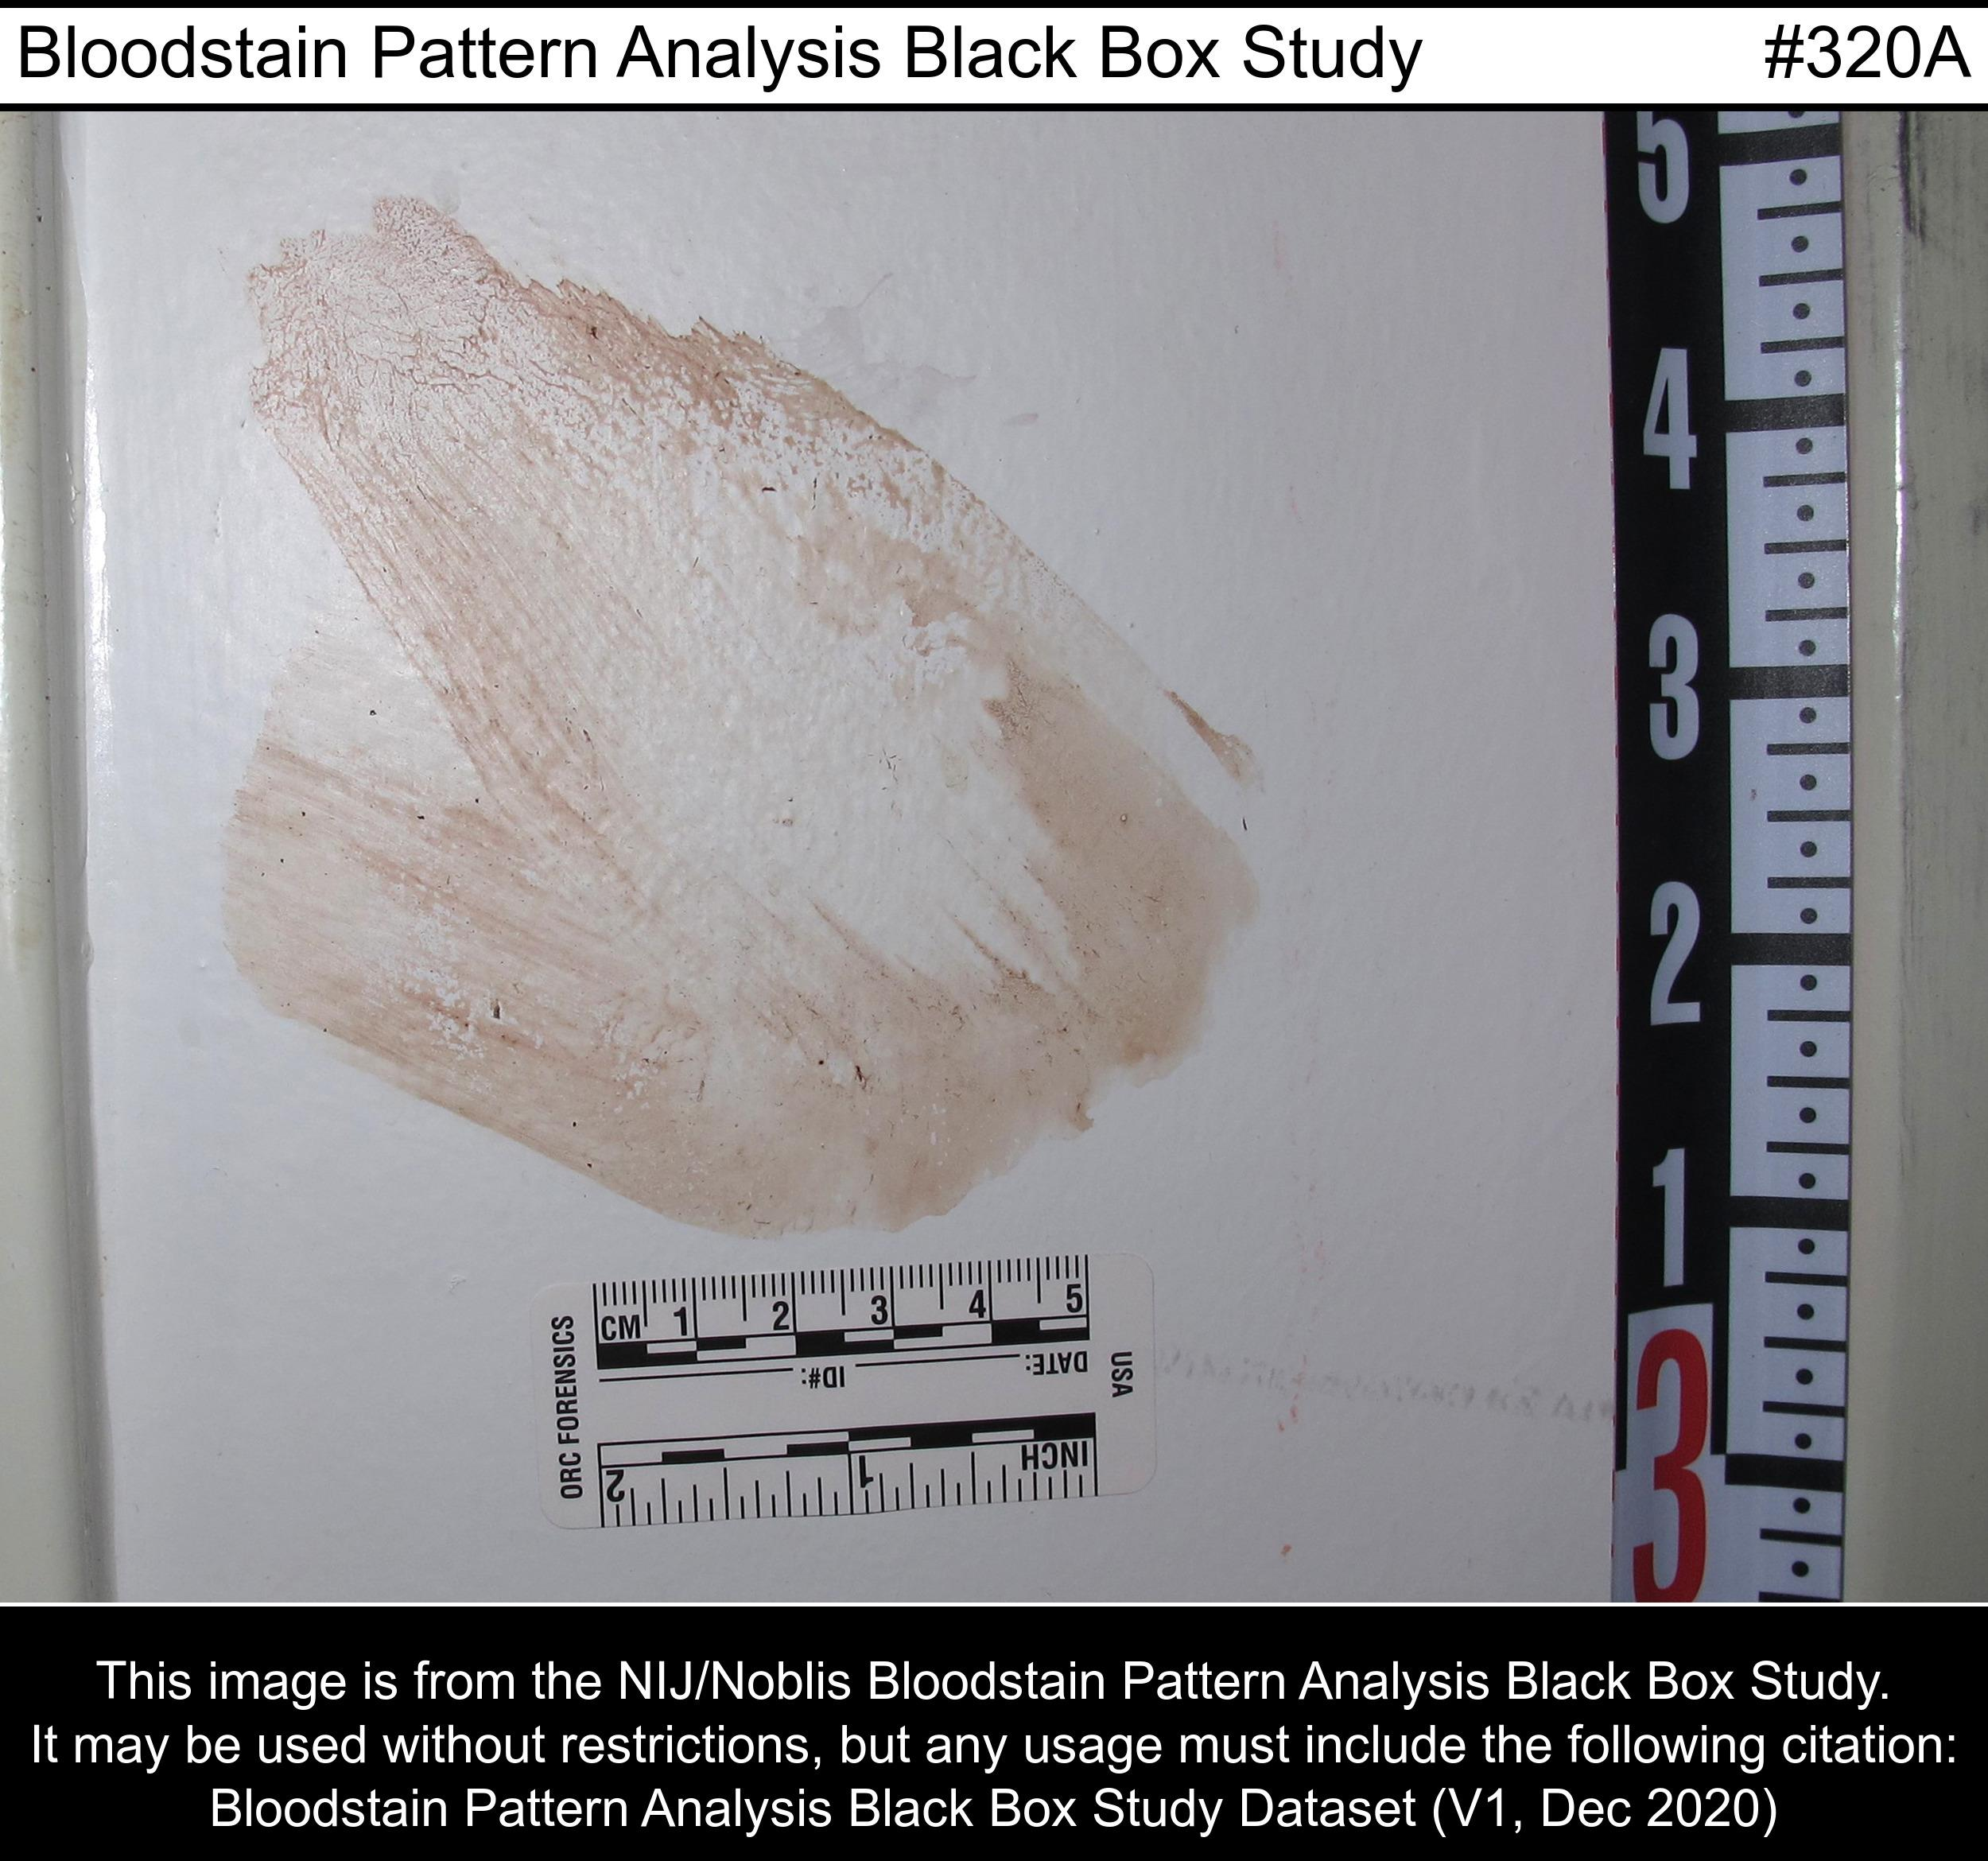Transfer: (115, 194, 1404, 1252)
